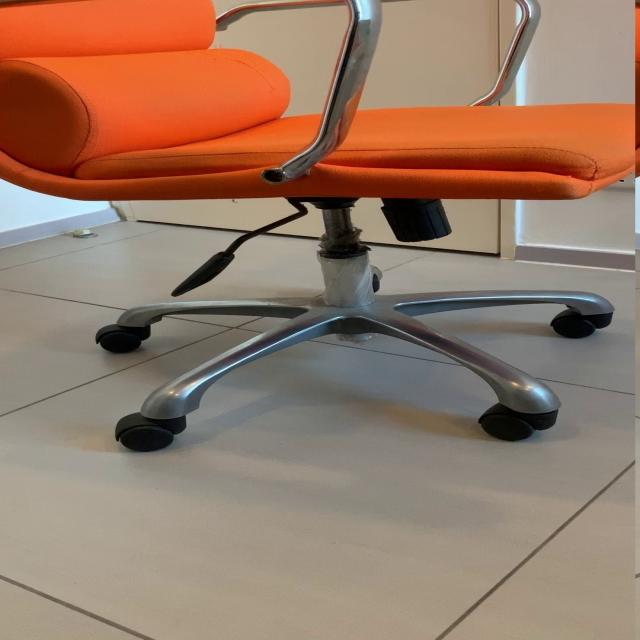Chair: (3, 5, 640, 458)
